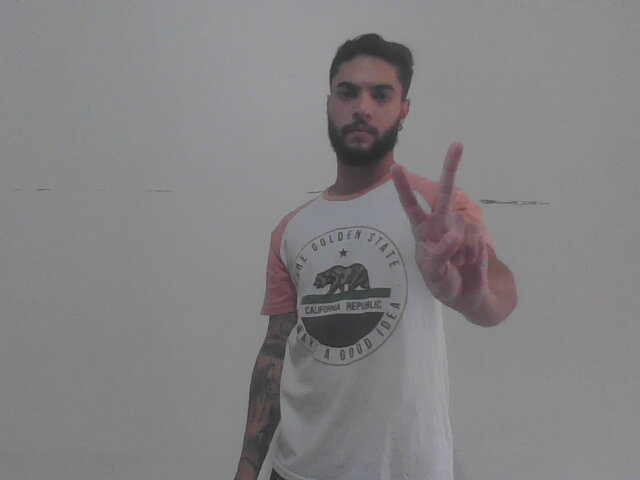v: (382, 141, 495, 309)
